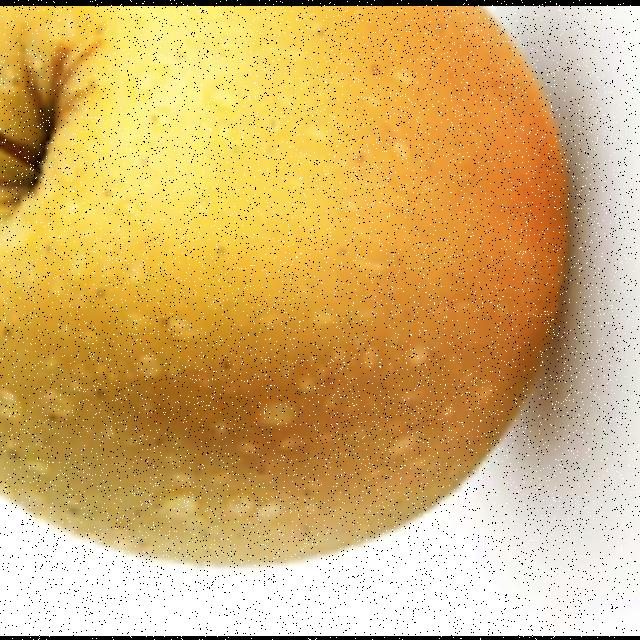Apel Segar: (1, 4, 586, 580)
